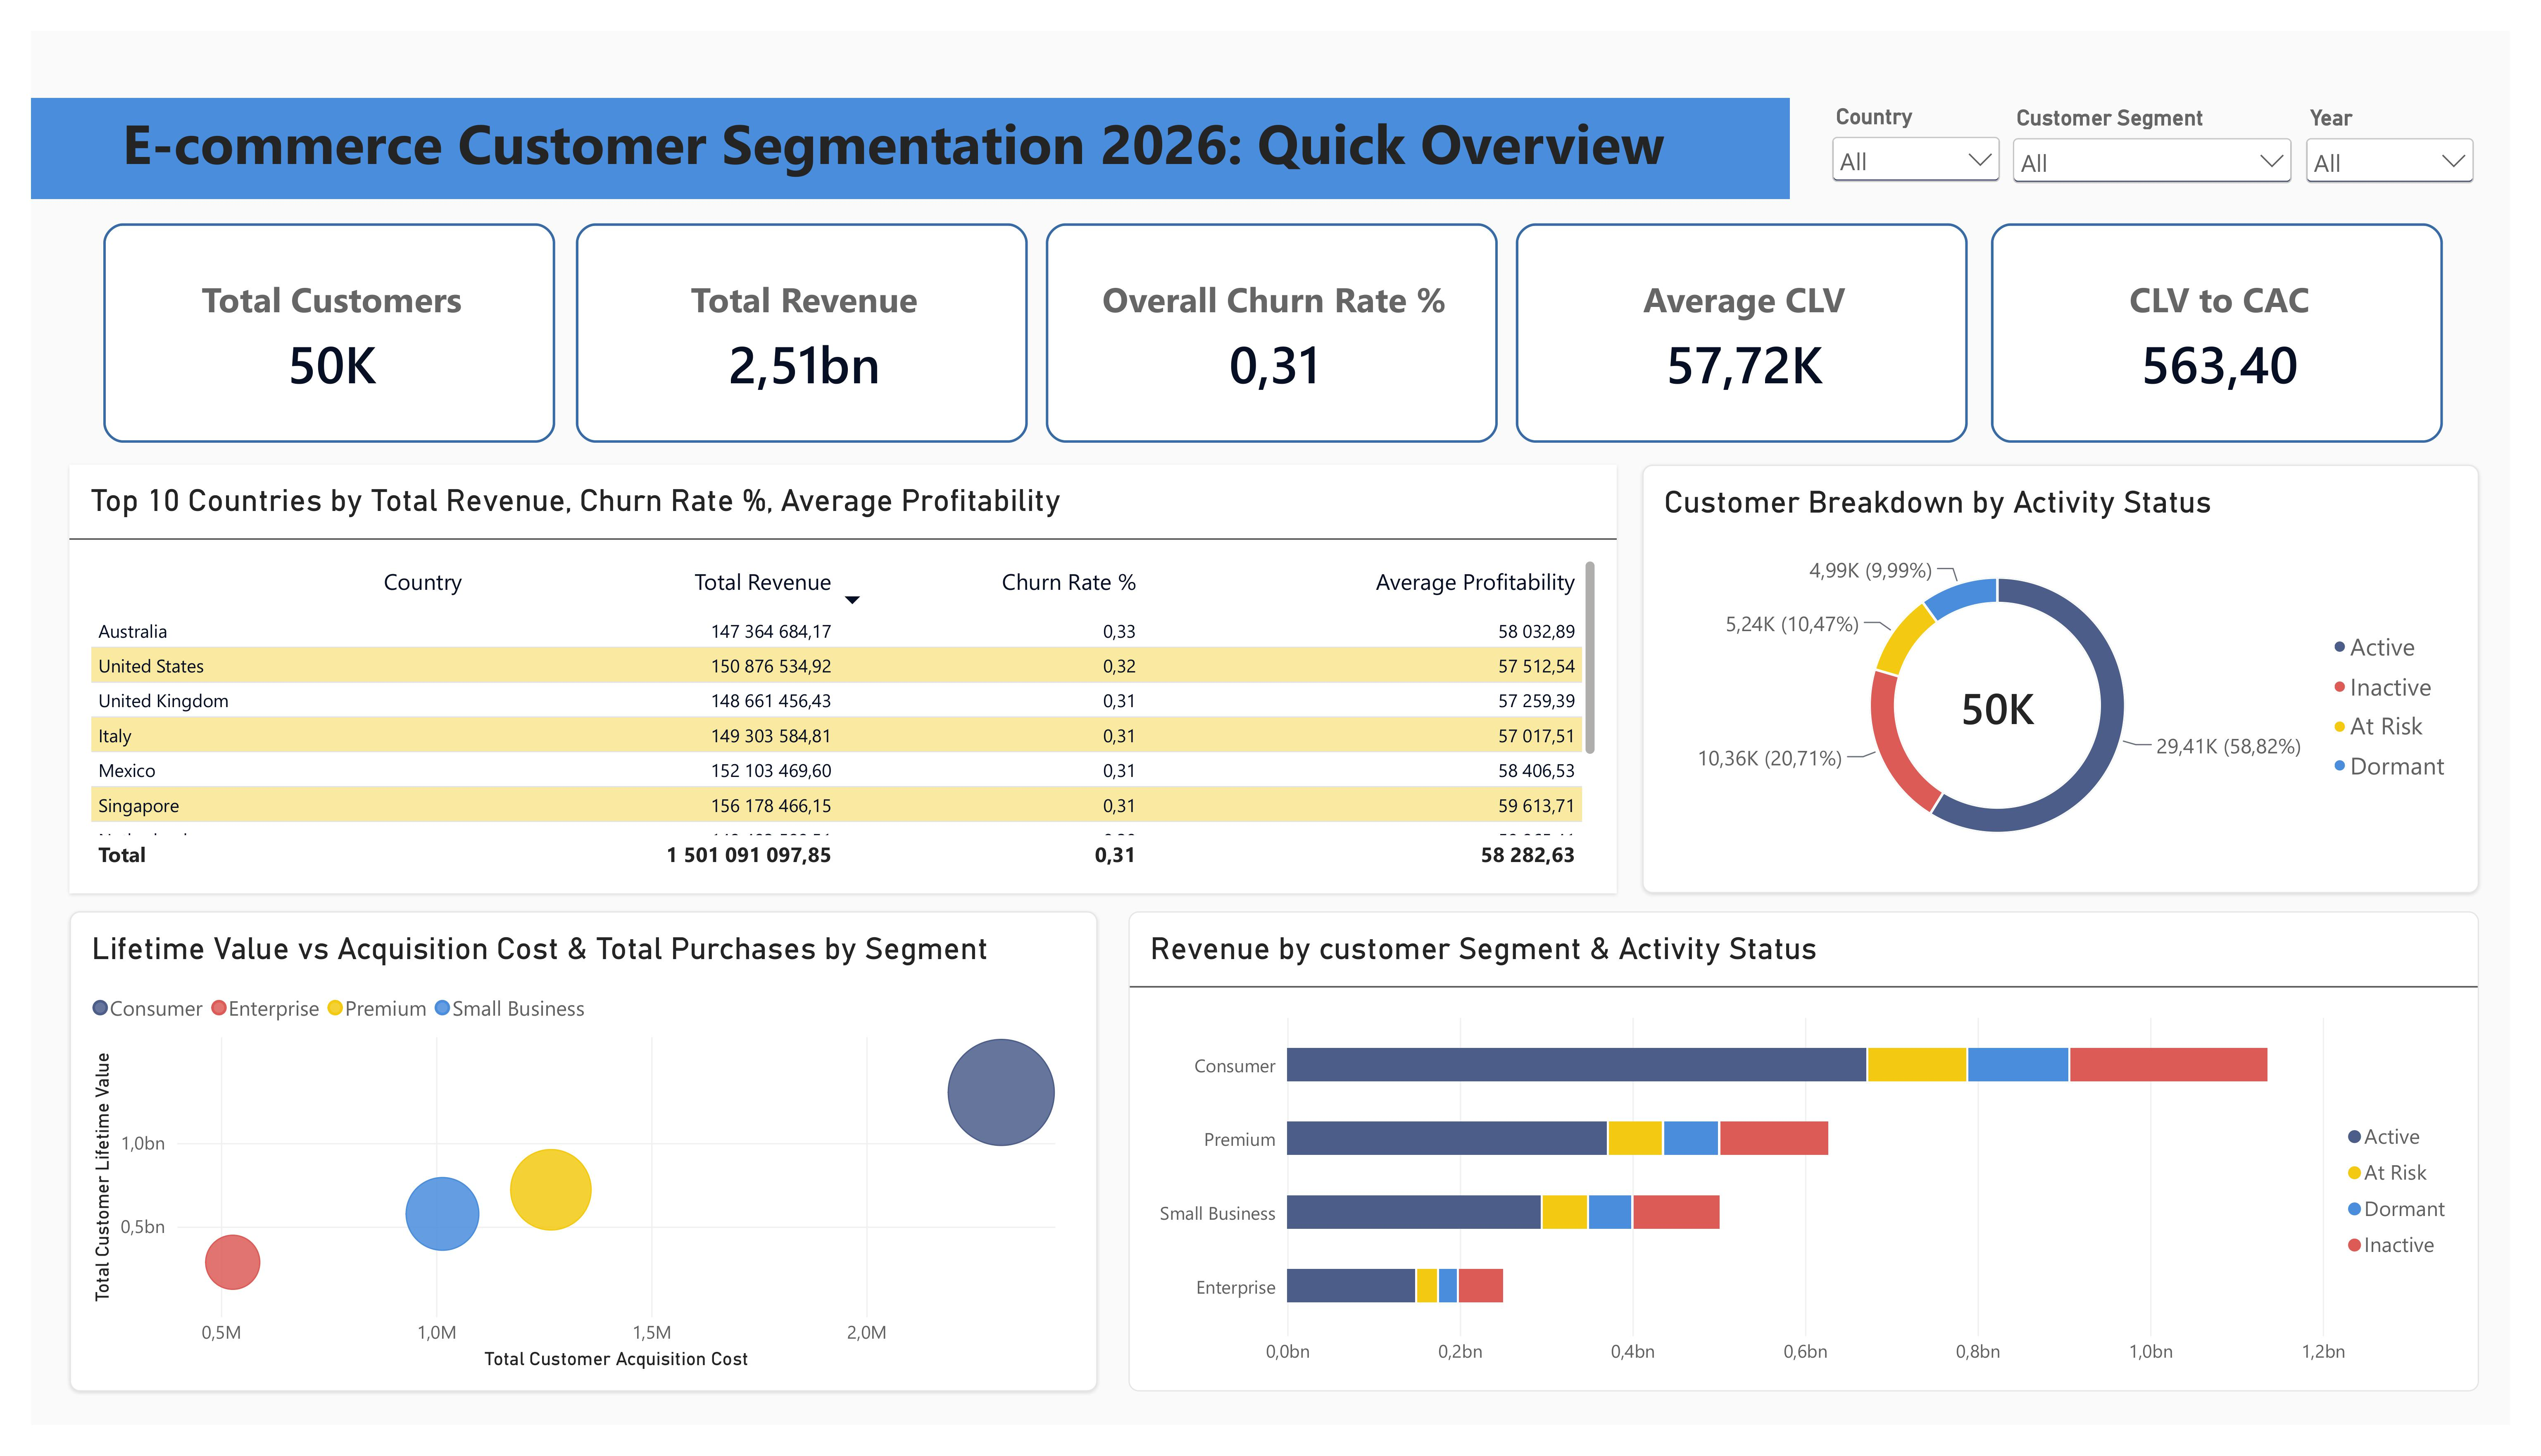

What the dashboard file says about the page in this screenshot:
{"tool":"powerbi","page":{"name":"Page 1","canvas":[1920,1080],"ordinal":0},"visuals":[{"type":"cardVisual","fields":{"Data":["Count(E-commerce_Customer_Segmentation_2026.customer_id)"]},"box":[56,148.8,350,170],"z":0},{"type":"cardVisual","fields":{"Data":["E-commerce_Customer_Segmentation_2026.Total Spent USD"]},"box":[422,148.8,350,170],"z":1000},{"type":"cardVisual","fields":{"Data":["E-commerce_Customer_Segmentation_2026.Churn Rate %"]},"box":[786,148.8,350,170],"z":2000},{"type":"cardVisual","fields":{"Data":["Avg(E-commerce_Customer_Segmentation_2026.customer_lifetime_value_usd)"]},"box":[1150,148.8,350,170],"z":3000},{"type":"cardVisual","fields":{"Data":["E-commerce_Customer_Segmentation_2026.CLV_to_CAC_Ratio"]},"box":[1518,148.8,350,170],"z":4000},{"type":"donutChart","title":"Customer Breakdown by Activity Status","fields":{"Category":["E-commerce_Customer_Segmentation_2026.activity_status"],"Y":["CountNonNull(E-commerce_Customer_Segmentation_2026.activity_status)"]},"box":[1248,336,648,332],"z":5000},{"type":"barChart","title":"Revenue by customer Segment & Activity Status","fields":{"Category":["E-commerce_Customer_Segmentation_2026.customer_segment"],"Y":["E-commerce_Customer_Segmentation_2026.Total Revenue"],"Series":["E-commerce_Customer_Segmentation_2026.activity_status"]},"box":[850,682,1046,372],"z":6000},{"type":"scatterChart","title":"Lifetime Value vs Acquisition Cost & Total Purchases by Segment","fields":{"X":["Sum(E-commerce_Customer_Segmentation_2026.customer_acquisition_cost_usd)"],"Y":["Sum(E-commerce_Customer_Segmentation_2026.customer_lifetime_value_usd)"],"Series":["E-commerce_Customer_Segmentation_2026.customer_segment"],"Size":["Sum(E-commerce_Customer_Segmentation_2026.total_purchases)"]},"box":[30,682,796,372],"z":7000},{"type":"tableEx","title":"Top 10 Countries by Total Revenue, Churn Rate %, Average Profitability","fields":{"Values":["E-commerce_Customer_Segmentation_2026.country","E-commerce_Customer_Segmentation_2026.Total Revenue","E-commerce_Customer_Segmentation_2026.Churn Rate %","E-commerce_Customer_Segmentation_2026.Avg Profitability"]},"box":[30,336,1198,332],"z":8000},{"type":"textbox","box":[0,35,1896.7,31.7],"z":9000},{"type":"slicer","fields":{"Values":["E-commerce_Customer_Segmentation_2026.country"]},"box":[1390.4,56,140,73.3],"z":10000},{"type":"slicer","fields":{"Values":["E-commerce_Customer_Segmentation_2026.dataset_year"]},"box":[1756.7,56.7,140,73.3],"z":11000},{"type":"slicer","fields":{"Values":["E-commerce_Customer_Segmentation_2026.customer_segment"]},"box":[1530.4,56.7,226,74],"z":12000},{"type":"textbox","box":[0.4,52,1362,78],"z":13000}]}

Visuals, with their boxes on the page's 1920x1080 design canvas (x1, y1, x2, y2). These are canvas units, not pixel positions in the 2541x1456 screenshot, which may show the page scaled, cropped or inside an application window:
cardVisual - Count(E-commerce_Customer_Segmentation_2026.customer_id): {"x1": 56, "y1": 149, "x2": 406, "y2": 319}
cardVisual - E-commerce_Customer_Segmentation_2026.Total Spent USD: {"x1": 422, "y1": 149, "x2": 772, "y2": 319}
cardVisual - E-commerce_Customer_Segmentation_2026.Churn Rate %: {"x1": 786, "y1": 149, "x2": 1136, "y2": 319}
cardVisual - Avg(E-commerce_Customer_Segmentation_2026.customer_lifetime_value_usd): {"x1": 1150, "y1": 149, "x2": 1500, "y2": 319}
cardVisual - E-commerce_Customer_Segmentation_2026.CLV_to_CAC_Ratio: {"x1": 1518, "y1": 149, "x2": 1868, "y2": 319}
"Customer Breakdown by Activity Status" donutChart: {"x1": 1248, "y1": 336, "x2": 1896, "y2": 668}
"Revenue by customer Segment & Activity Status" barChart: {"x1": 850, "y1": 682, "x2": 1896, "y2": 1054}
"Lifetime Value vs Acquisition Cost & Total Purchases by Segment" scatterChart: {"x1": 30, "y1": 682, "x2": 826, "y2": 1054}
"Top 10 Countries by Total Revenue, Churn Rate %, Average Profitability" tableEx: {"x1": 30, "y1": 336, "x2": 1228, "y2": 668}
textbox: {"x1": 0, "y1": 35, "x2": 1897, "y2": 67}
slicer - E-commerce_Customer_Segmentation_2026.country: {"x1": 1390, "y1": 56, "x2": 1530, "y2": 129}
slicer - E-commerce_Customer_Segmentation_2026.dataset_year: {"x1": 1757, "y1": 57, "x2": 1897, "y2": 130}
slicer - E-commerce_Customer_Segmentation_2026.customer_segment: {"x1": 1530, "y1": 57, "x2": 1756, "y2": 131}
textbox: {"x1": 0, "y1": 52, "x2": 1362, "y2": 130}
